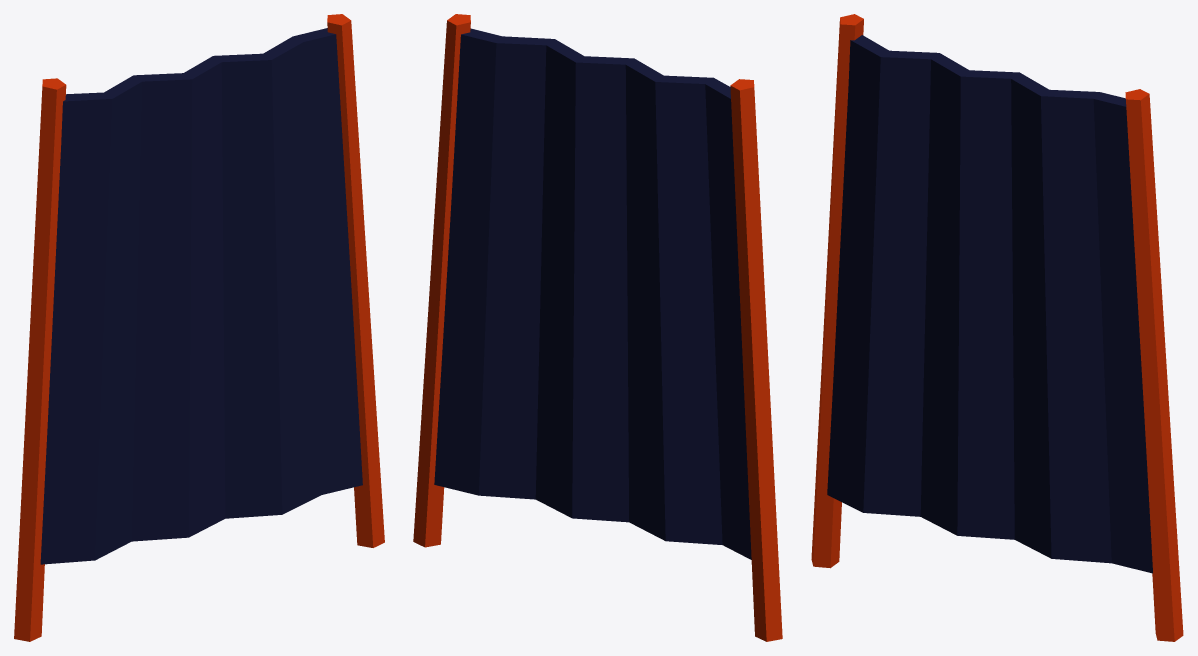
The model's file is MDL_Separador.FBX.
3 views of the same model, side by side, from view 1: azimuth 30°, elevation 25°; view 2: azimuth 150°, elevation 25°; view 3: azimuth 330°, elevation 25° (orthographic).
Visible parts, largest first — view 1: Plane006; view 2: Plane006; view 3: Plane006.
Part boxes in pixels (x1=…): Plane006: x1=14, y1=14, x2=384, y2=641; Plane006: x1=413, y1=14, x2=782, y2=641; Plane006: x1=811, y1=14, x2=1183, y2=641.
Size of the model in its own units: 71.01 by 101 by 7.37.
